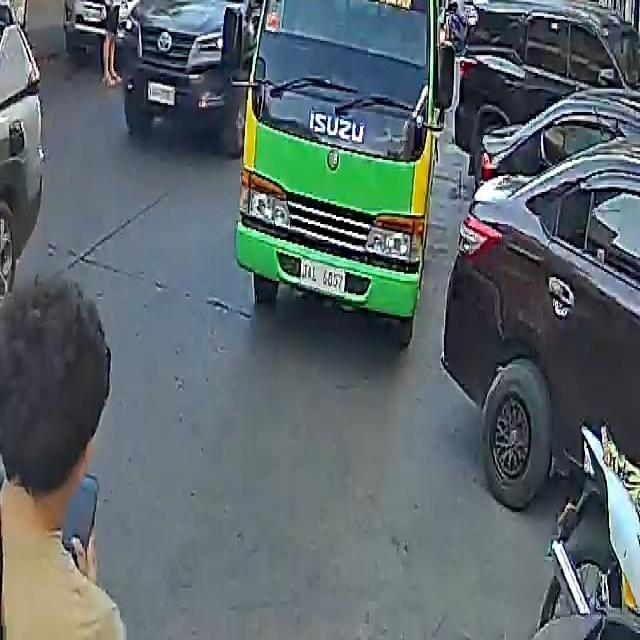car: (443, 87, 640, 523), (0, 0, 69, 505), (444, 0, 640, 167), (117, 0, 278, 135), (63, 0, 192, 48)
